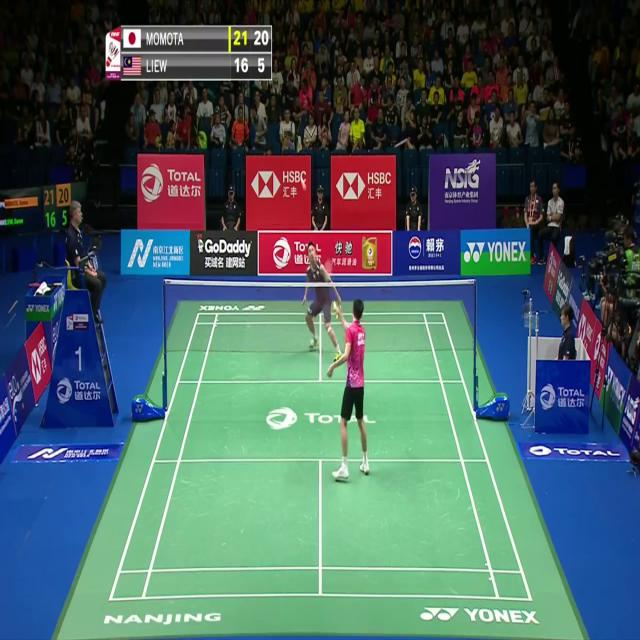Shuttlecock: (299, 179, 306, 191)
